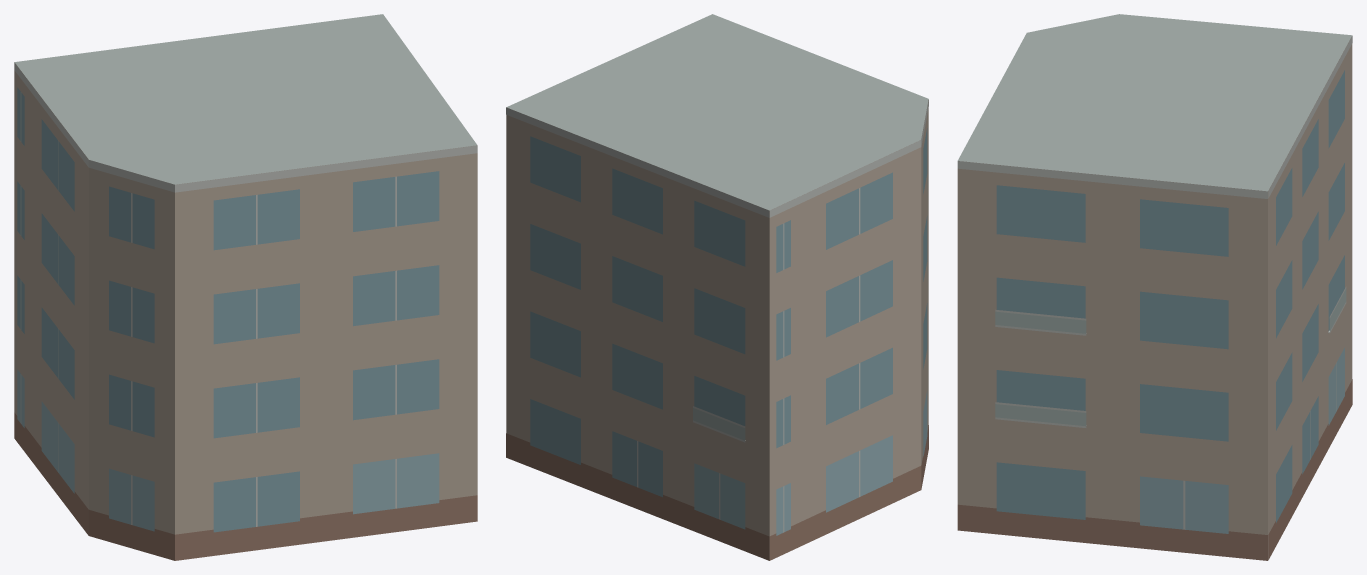
File: survey-upis-32859890.glb
3 views of the same model, side by side, from view 1: azimuth 30°, elevation 25°; view 2: azimuth 150°, elevation 25°; view 3: azimuth 270°, elevation 25° (orthographic). The views are drawn at different scales.
Parts seen in each view (by area): view 1: survey-upis-32859890.tmp; view 2: survey-upis-32859890.tmp; view 3: survey-upis-32859890.tmp.
Boxes of the visible parts, <box> form: survey-upis-32859890.tmp: <box>14,14,477,560</box>; survey-upis-32859890.tmp: <box>506,14,928,560</box>; survey-upis-32859890.tmp: <box>957,14,1352,560</box>.
Size of the model in its own units: 11.9 by 11.55 by 11.2.
